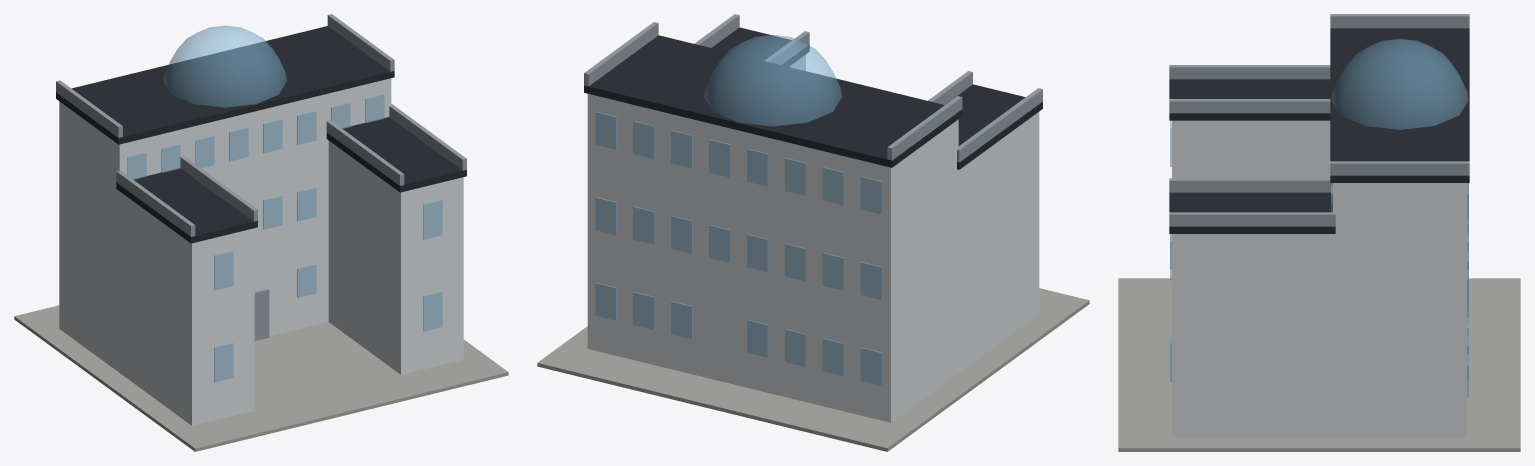
File: bld_special_university_a08.glb
The picture shows the model from 3 angles, left to right: view 1: azimuth 30°, elevation 25°; view 2: azimuth 150°, elevation 25°; view 3: azimuth 270°, elevation 25°; orthographic projection. The views are drawn at different scales.
Parts seen in each view (by area): view 1: body; view 2: body; view 3: body.
Part boxes in pixels (x1,y1,x2,y2): body: [14, 14, 508, 451]; body: [537, 14, 1089, 451]; body: [1118, 14, 1520, 451].
Size of what is drawn, in the model's own units: 15 by 13.25 by 15.
